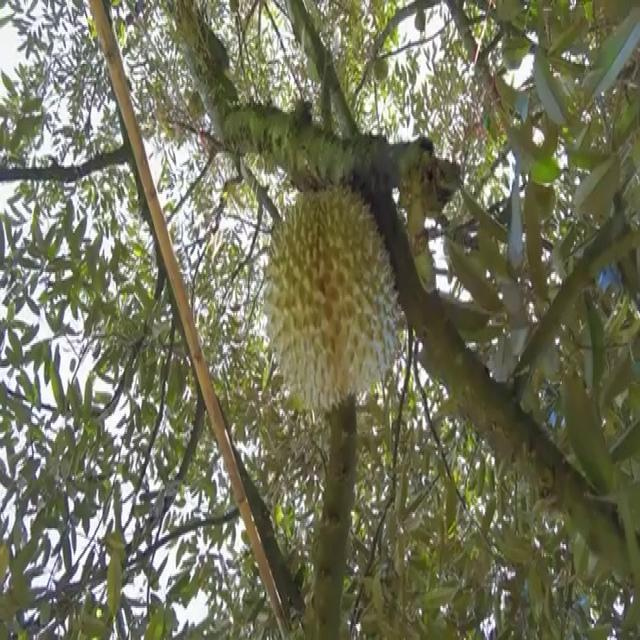durian: (258, 184, 410, 422)
